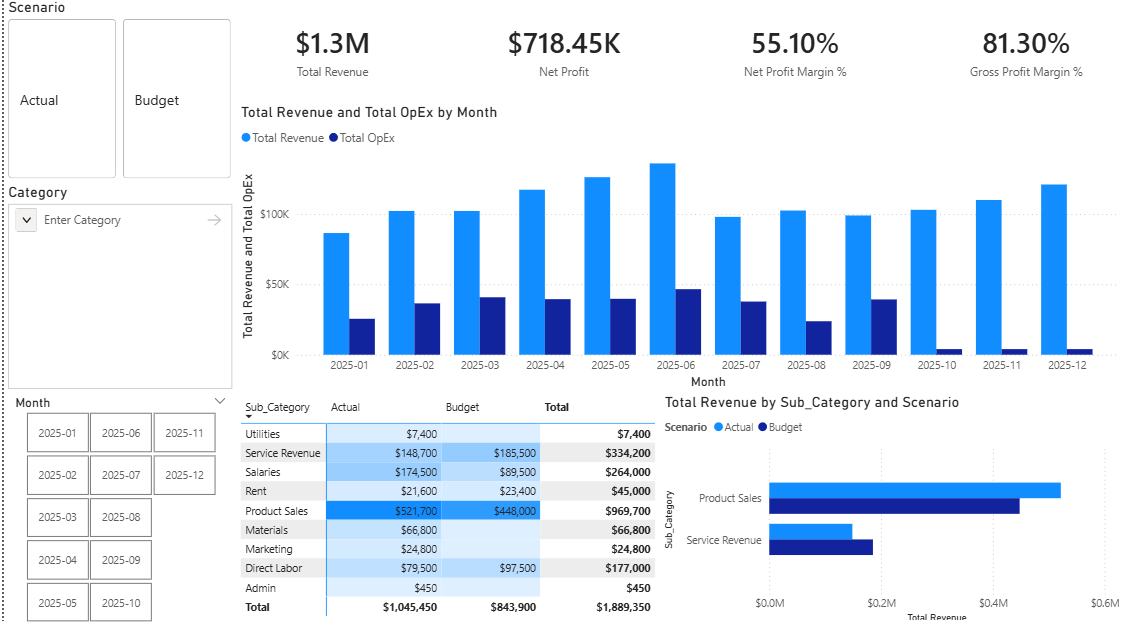

The page's visual inventory and layout, read from the dashboard file:
{"tool":"powerbi","page":{"name":"Financial Overview","canvas":[1280,720],"ordinal":0},"visuals":[{"type":"card","fields":{"Values":["Financial_Raw_Data.Total Revenue"]},"box":[265.3,0,220,120],"z":0},{"type":"card","fields":{"Values":["Financial_Raw_Data.Net Profit"]},"box":[529.7,0,220,120],"z":1000},{"type":"card","fields":{"Values":["Financial_Raw_Data.Net Profit Margin %"]},"box":[794,0,220,120],"z":2000},{"type":"card","fields":{"Values":["Financial_Raw_Data.Gross Profit Margin %"]},"box":[1058.4,0,220,120],"z":3000},{"type":"lineClusteredColumnComboChart","fields":{"Category":["Calendar.Month"],"Y":["Financial_Raw_Data.Total Revenue","Financial_Raw_Data.Total OpEx"]},"box":[265.7,120,1014.3,331.4],"z":4000},{"type":"pivotTable","fields":{"Rows":["Financial_Raw_Data.Category","Financial_Raw_Data.Sub_Category"],"Columns":["Financial_Raw_Data.Scenario"],"Values":["Sum(Financial_Raw_Data.Amount)"]},"box":[265.7,451.4,484.3,268.6],"z":5000},{"type":"clusteredBarChart","fields":{"Category":["Financial_Raw_Data.Sub_Category"],"Y":["Financial_Raw_Data.Total Revenue"],"Series":["Financial_Raw_Data.Scenario"]},"box":[750,451.4,530,268.6],"z":6000},{"type":"advancedSlicerVisual","fields":{"Values":["Financial_Raw_Data.Scenario"]},"box":[0,0,265.7,211.4],"z":7000},{"type":"slicer","fields":{"Values":["Calendar.Month"]},"box":[0,448.6,265.7,271.4],"z":8000},{"type":"textSlicer","fields":{"Values":["Financial_Raw_Data.Category"]},"box":[0,211.4,265.7,240],"z":9000}]}

Visuals, with their boxes in screenshot pixels (x1, y1, x2, y2), scaled from the page's 1280x720 canvas onto the 1122x622 screenshot:
card - Financial_Raw_Data.Total Revenue: 233,0,425,104
card - Financial_Raw_Data.Net Profit: 464,0,657,104
card - Financial_Raw_Data.Net Profit Margin %: 696,0,889,104
card - Financial_Raw_Data.Gross Profit Margin %: 928,0,1121,104
lineClusteredColumnComboChart - Calendar.Month x Financial_Raw_Data.Total Revenue: 233,104,1121,390
pivotTable - Financial_Raw_Data.Category x Financial_Raw_Data.Sub_Category: 233,390,657,621
clusteredBarChart - Financial_Raw_Data.Sub_Category x Financial_Raw_Data.Total Revenue: 657,390,1121,621
advancedSlicerVisual - Financial_Raw_Data.Scenario: 0,0,233,183
slicer - Calendar.Month: 0,388,233,621
textSlicer - Financial_Raw_Data.Category: 0,183,233,390
